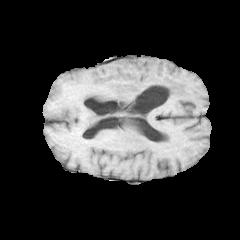glioma: (49, 69, 191, 125)
